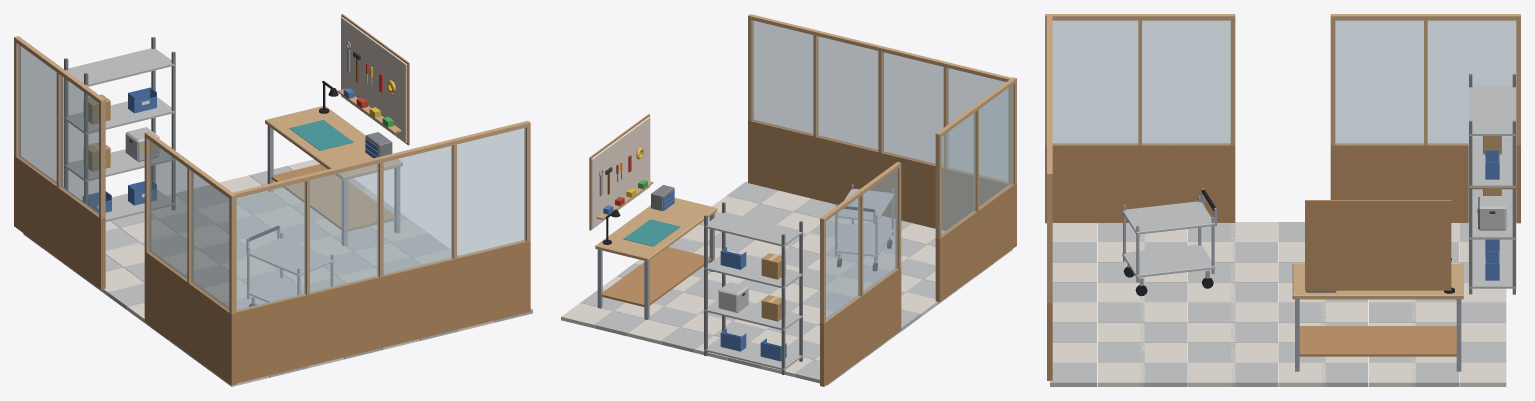
The model's file is zone_repair_lab.glb.
3 renders of one model, left to right at view 1: azimuth 30°, elevation 25°; view 2: azimuth 150°, elevation 25°; view 3: azimuth 270°, elevation 25°, orthographic. The views are drawn at different scales.
Parts seen in each view (by area): view 1: zone_repair_lab, zone_repair_lab_glass; view 2: zone_repair_lab, zone_repair_lab_glass; view 3: zone_repair_lab, zone_repair_lab_glass.
Part boxes in pixels (box(x1,y1,x2,y2)): zone_repair_lab: box(14, 14, 532, 386); zone_repair_lab_glass: box(17, 44, 525, 311); zone_repair_lab: box(561, 14, 1016, 386); zone_repair_lab_glass: box(752, 20, 1013, 320); zone_repair_lab: box(1045, 14, 1520, 386); zone_repair_lab_glass: box(1052, 20, 1516, 144).
Bounding box in the file's own units: 4.03 × 2.45 × 5.
3 materials, 1 textured.
